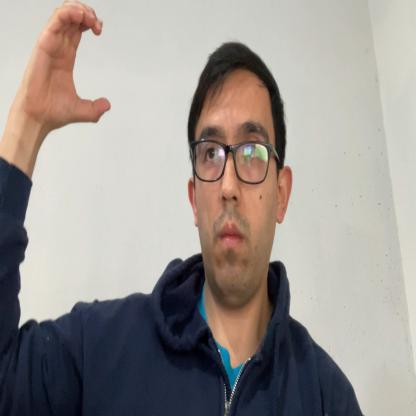C: (33, 0, 112, 124)
